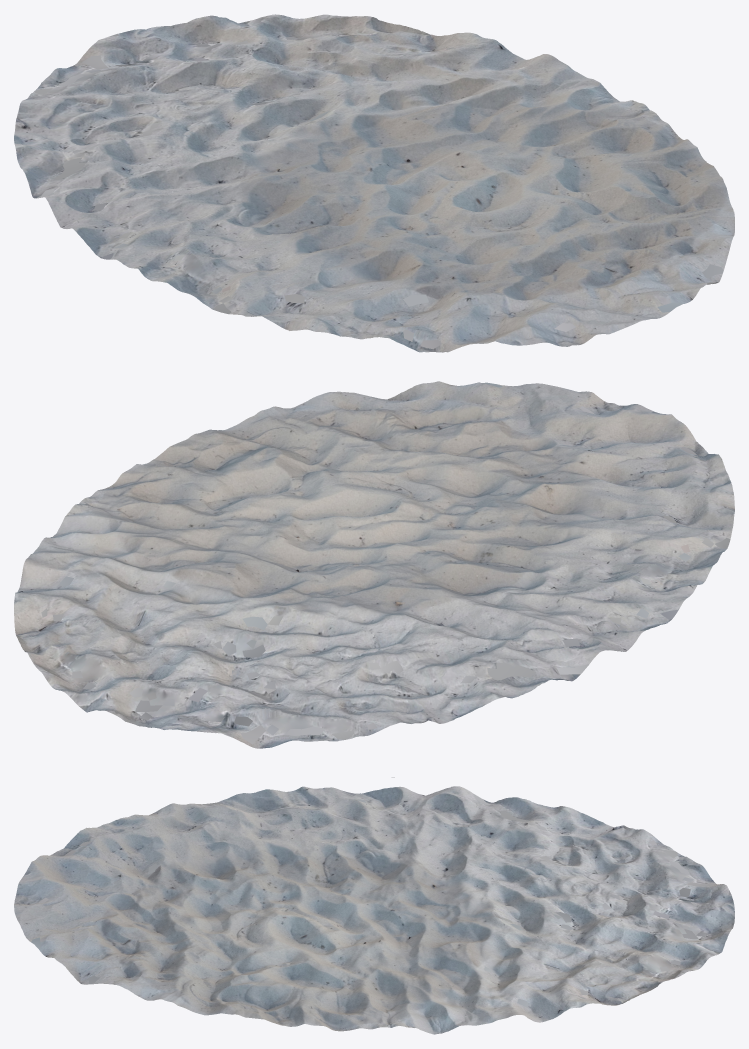
The model's file is beach_001.glb.
3 renders of one model, top to bottom at view 1: azimuth 30°, elevation 25°; view 2: azimuth 150°, elevation 25°; view 3: azimuth 270°, elevation 25°, orthographic. The views are drawn at different scales.
Visible parts, largest first — view 1: Object_5, Object_4, Object_10, Object_6, Object_8, Object_9, Object_7, Object_11; view 2: Object_5, Object_4, Object_6, Object_10, Object_8, Object_9, Object_7, Object_11; view 3: Object_5, Object_4, Object_10, Object_6, Object_8, Object_9, Object_7, Object_11.
Part boxes in pixels (left/top/right/bottom): Object_5: left=14, top=18, right=653, bottom=236; Object_4: left=28, top=16, right=421, bottom=258; Object_10: left=79, top=216, right=602, bottom=352; Object_6: left=207, top=14, right=697, bottom=167; Object_8: left=422, top=130, right=734, bottom=334; Object_9: left=180, top=119, right=730, bottom=342; Object_7: left=287, top=106, right=734, bottom=341; Object_11: left=216, top=23, right=626, bottom=307; Object_5: left=26, top=500, right=643, bottom=748; Object_4: left=93, top=561, right=671, bottom=723; Object_6: left=14, top=464, right=306, bottom=712; Object_10: left=437, top=392, right=734, bottom=631; Object_8: left=155, top=381, right=582, bottom=535; Object_9: left=106, top=408, right=688, bottom=610; Object_7: left=77, top=390, right=600, bottom=580; Object_11: left=15, top=458, right=672, bottom=712; Object_5: left=362, top=786, right=734, bottom=1030; Object_4: left=341, top=777, right=730, bottom=967; Object_10: left=14, top=786, right=393, bottom=918; Object_6: left=296, top=927, right=729, bottom=1034; Object_8: left=14, top=876, right=388, bottom=1014; Object_9: left=24, top=813, right=396, bottom=1026; Object_7: left=14, top=854, right=403, bottom=1031; Object_11: left=160, top=833, right=694, bottom=1033.
Bounding box in the file's own units: 1.19 × 0.0802 × 1.59.
Materials: 1 (1 with a texture image).
